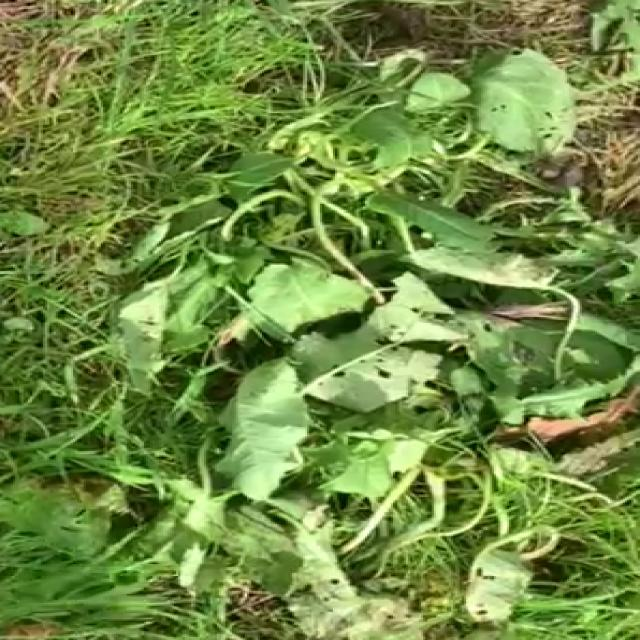organic waste: (47, 27, 640, 421), (51, 326, 610, 640)
